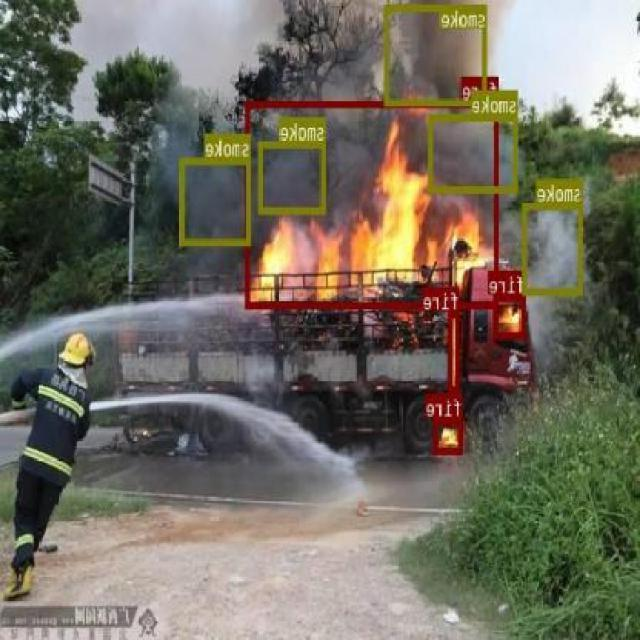Fire: (246, 99, 500, 307), (494, 293, 528, 338), (434, 416, 463, 453), (450, 310, 461, 392)
Smoke: (384, 4, 488, 104), (429, 112, 518, 190), (182, 157, 252, 245), (524, 201, 584, 294), (259, 140, 327, 212)
